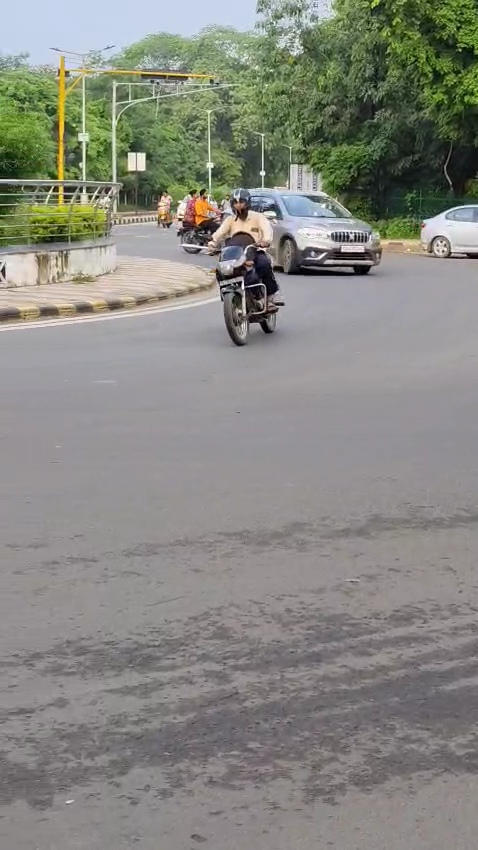BikeWithRider: (200, 186, 289, 350), (173, 186, 223, 255), (152, 188, 176, 230)
Helmet: (226, 188, 254, 219)
